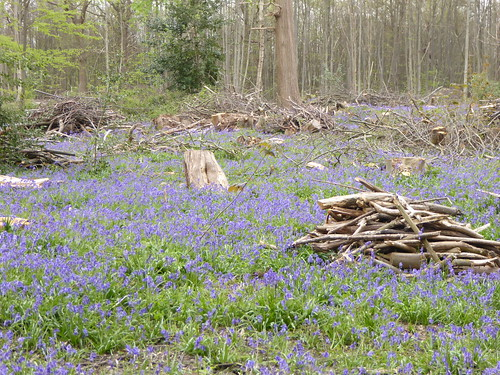flowers: (27, 138, 500, 375)
vegetation: (1, 1, 482, 130)
